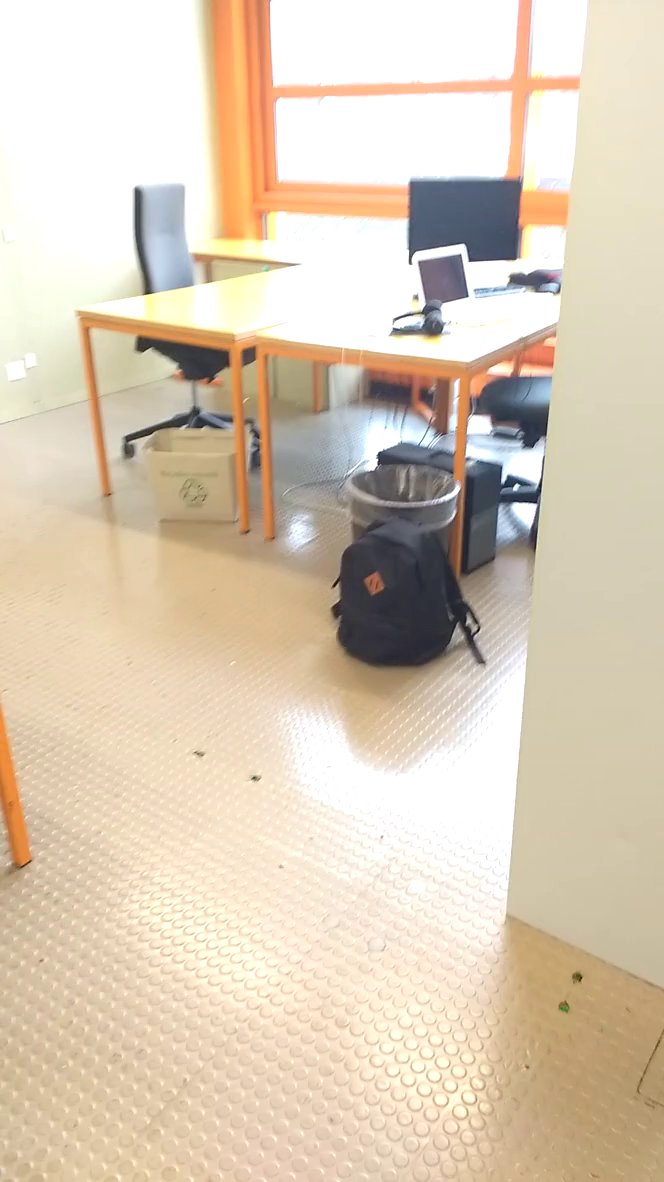bag: (327, 508, 491, 678)
bin: (327, 456, 462, 540)
box: (140, 422, 257, 536)
chair: (115, 176, 274, 473)
laptop: (408, 241, 527, 331)
